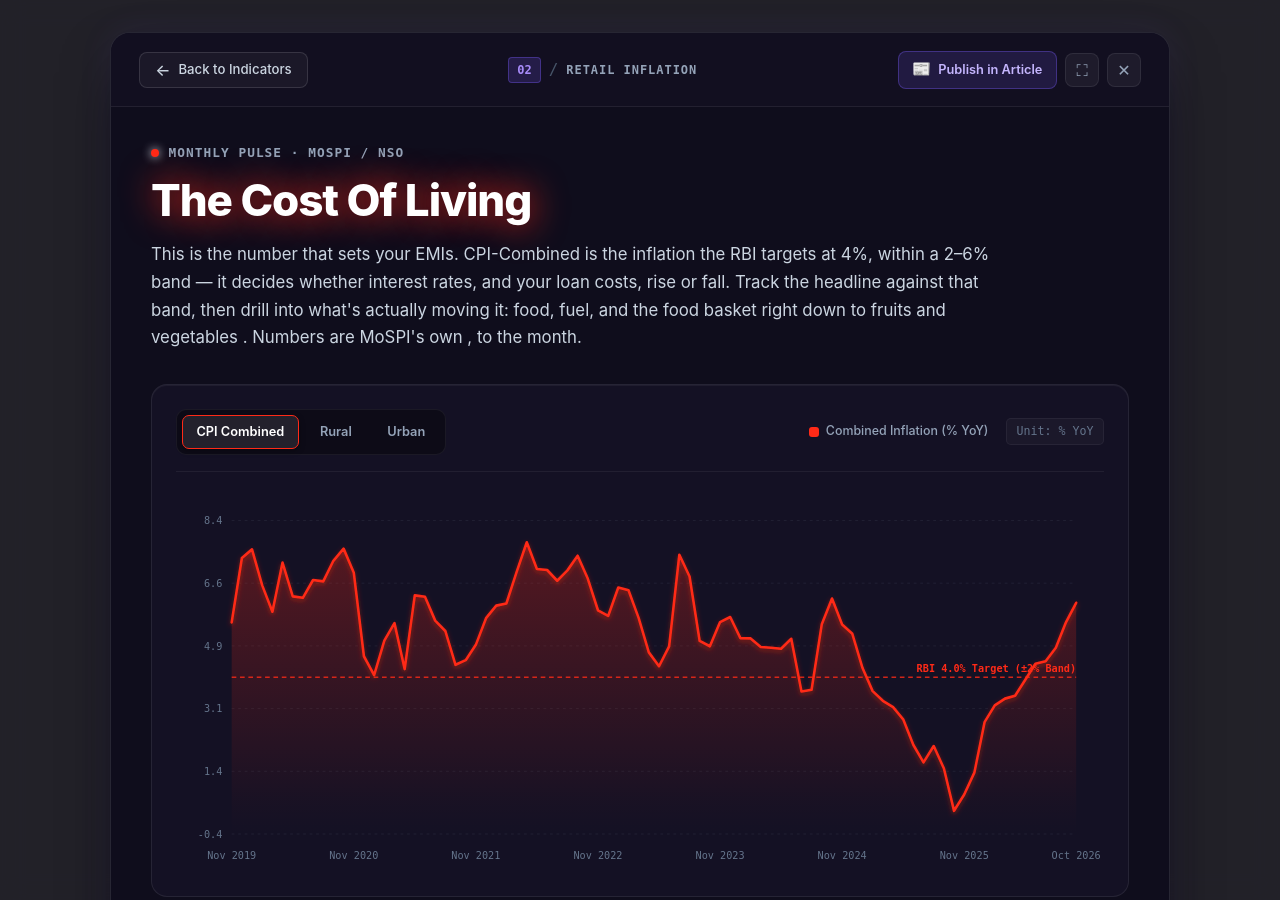
it: Pulse High-Frequency Articles and Interactive Charts › renders publish in article kit with Substack markdown, caption, and iframe code
What coordinates should you click on to do the following:
click the button "📰 Publish in Article"
I would click on:
 (977, 70)
Its box is [898,51,1057,89].
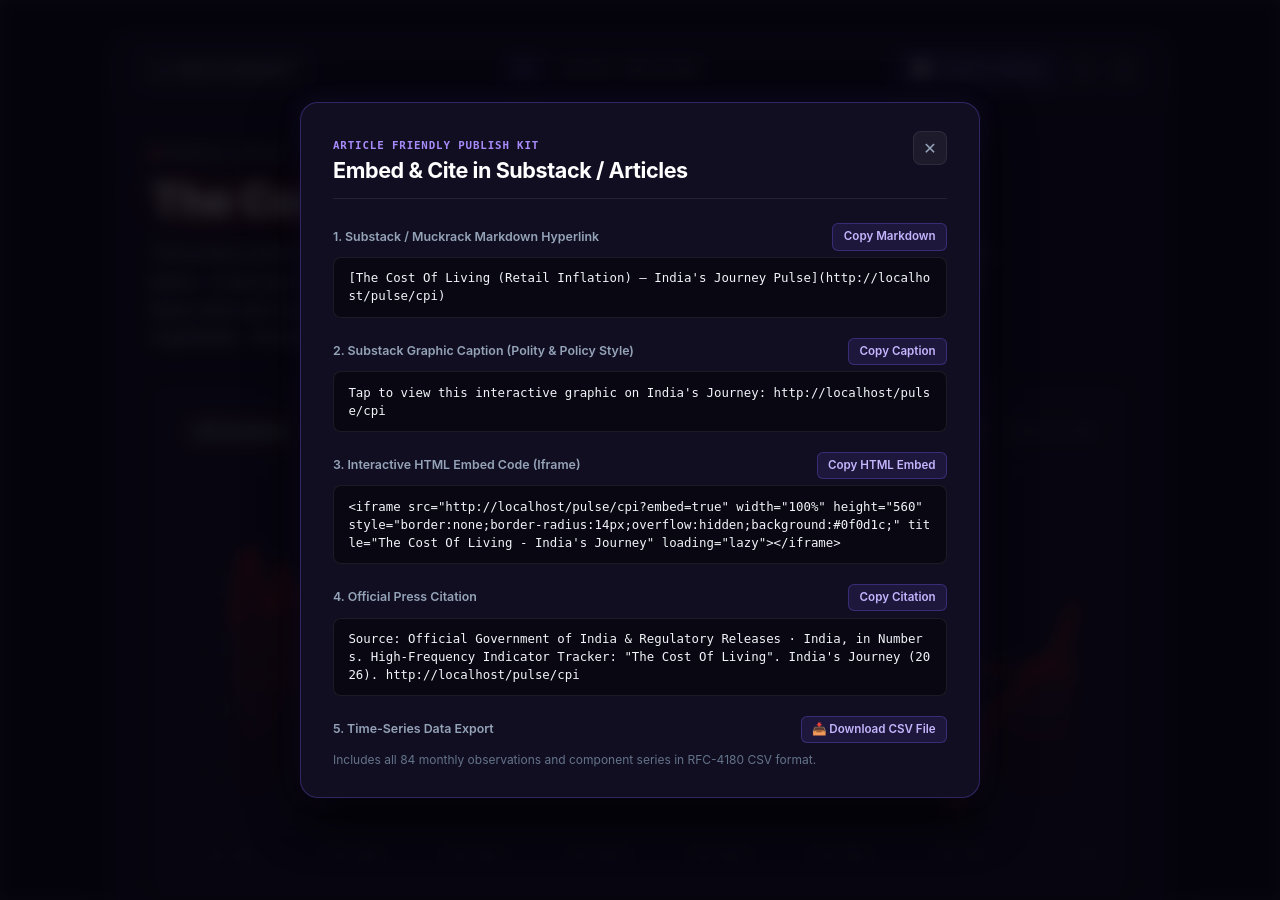
Expected: the text "ARTICLE FRIENDLY PUBLISH KIT" is shown, [333,139,539,152]
Expected: the text "1. Substack / Muckrack Markdown Hyperlink" is shown, [333,228,599,246]
Expected: the text "2. Substack Graphic Caption (Polity & Policy Style)" is shown, [333,342,634,361]
